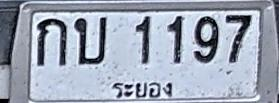1: (167, 15, 184, 63), (135, 15, 150, 64)
7: (226, 14, 252, 63)
9: (193, 15, 218, 63)
A01: (36, 18, 66, 66)
A26: (74, 16, 107, 65)
RYG: (108, 77, 181, 103)
